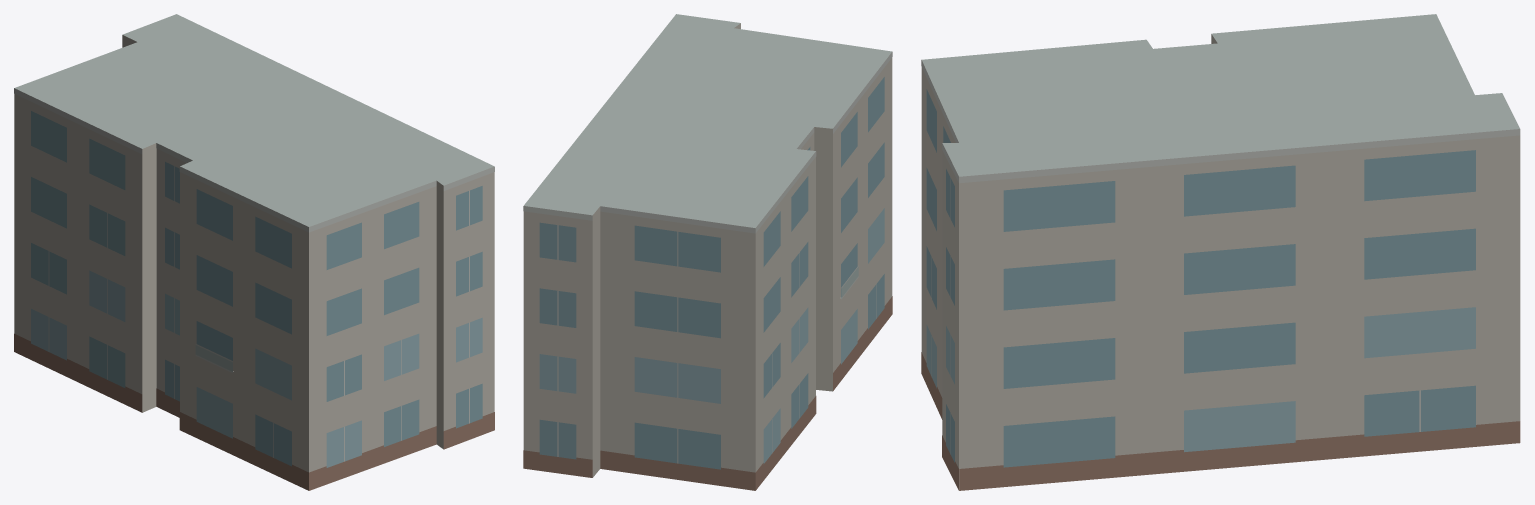
Rendered from survey-upis-32619411.glb.
3 views of the same model, side by side, from view 1: azimuth 30°, elevation 25°; view 2: azimuth 150°, elevation 25°; view 3: azimuth 270°, elevation 25° (orthographic). The views are drawn at different scales.
Visible parts, largest first — view 1: survey-upis-32619411.tmp; view 2: survey-upis-32619411.tmp; view 3: survey-upis-32619411.tmp.
Part boxes in pixels (x1=…): survey-upis-32619411.tmp: x1=14, y1=14, x2=494, y2=490; survey-upis-32619411.tmp: x1=523, y1=14, x2=892, y2=490; survey-upis-32619411.tmp: x1=921, y1=14, x2=1520, y2=490.
Bounding box in the file's own units: 13.08 × 11.76 × 20.33.
